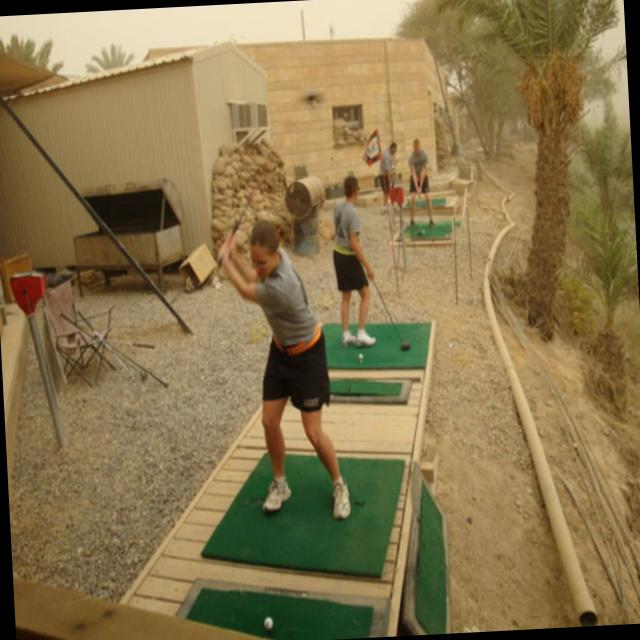Ball: (264, 616, 274, 630)
